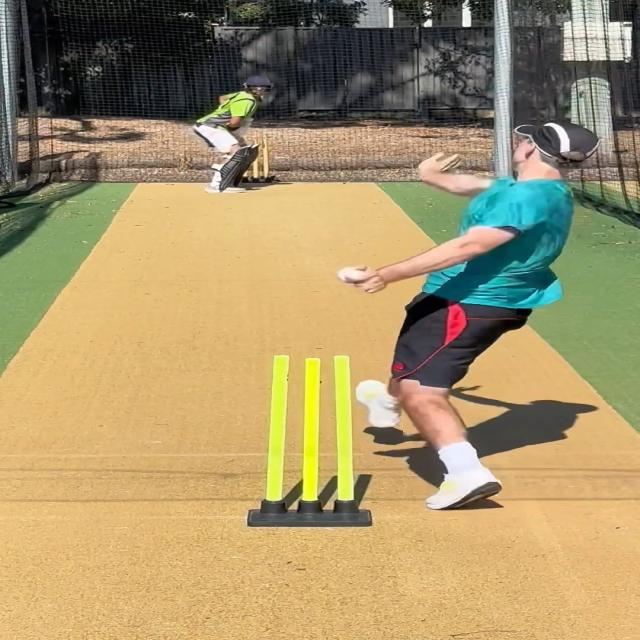stump: (245, 351, 376, 531), (238, 128, 272, 183)
